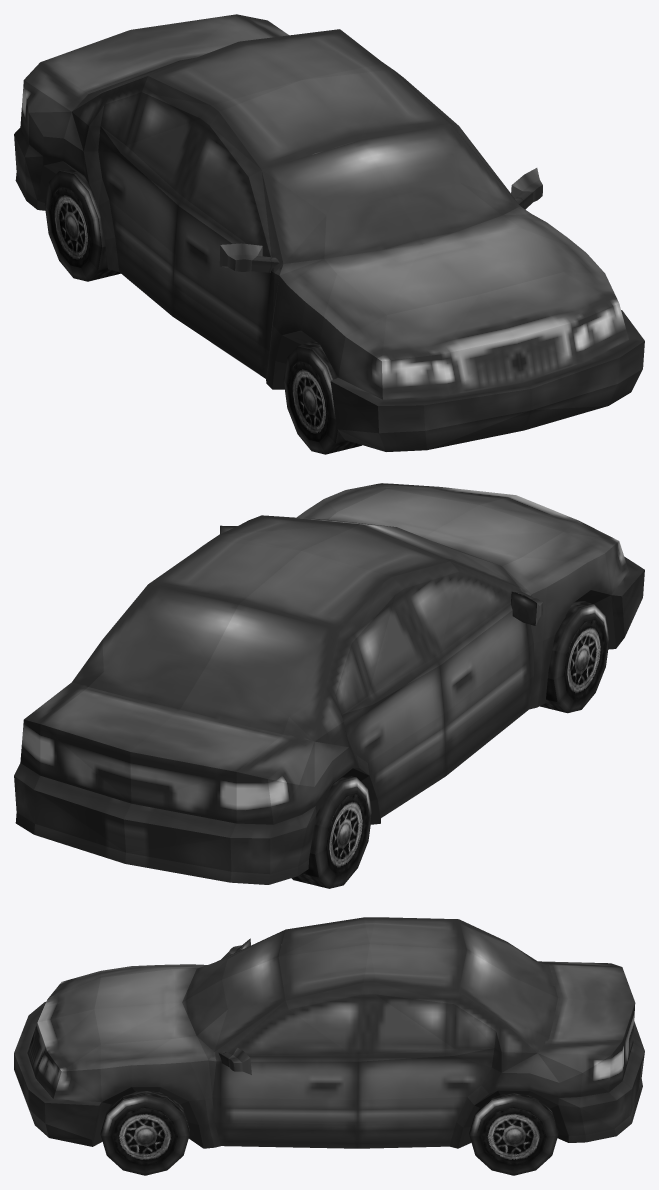
The model's file is Car_Generic.fbx.
3 renders of one model, top to bottom at view 1: azimuth 30°, elevation 25°; view 2: azimuth 150°, elevation 25°; view 3: azimuth 270°, elevation 25°, orthographic. The views are drawn at different scales.
Parts seen in each view (by area): view 1: Car_Generic; view 2: Car_Generic; view 3: Car_Generic.
Part boxes in pixels (box(x1,y1,x2,y2)): Car_Generic: box(14, 14, 644, 454); Car_Generic: box(14, 483, 644, 888); Car_Generic: box(14, 917, 644, 1175).
Bounding box in the file's own units: 223 × 156 × 495.
